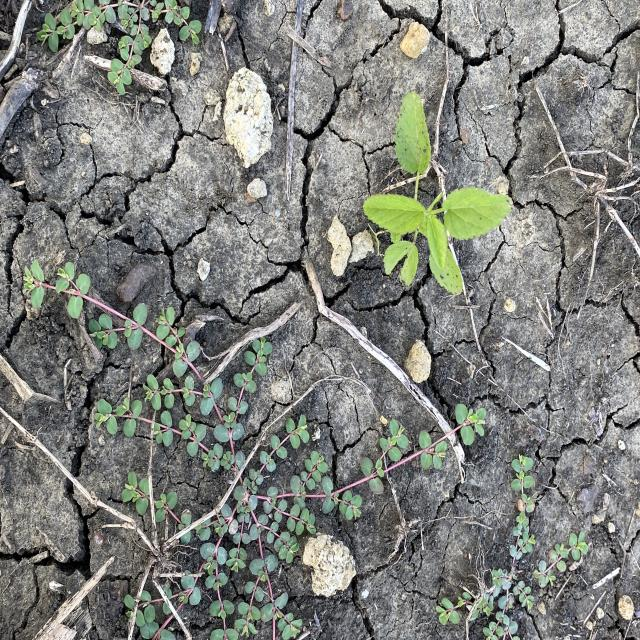PricklySida: (361, 87, 517, 301)
SpottedSpurge: (21, 258, 490, 636), (433, 450, 586, 639), (35, 2, 204, 98)
